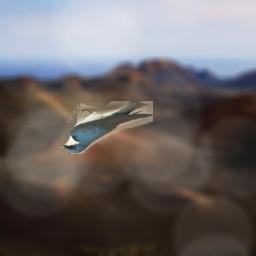Swallow: (60, 101, 153, 154)
